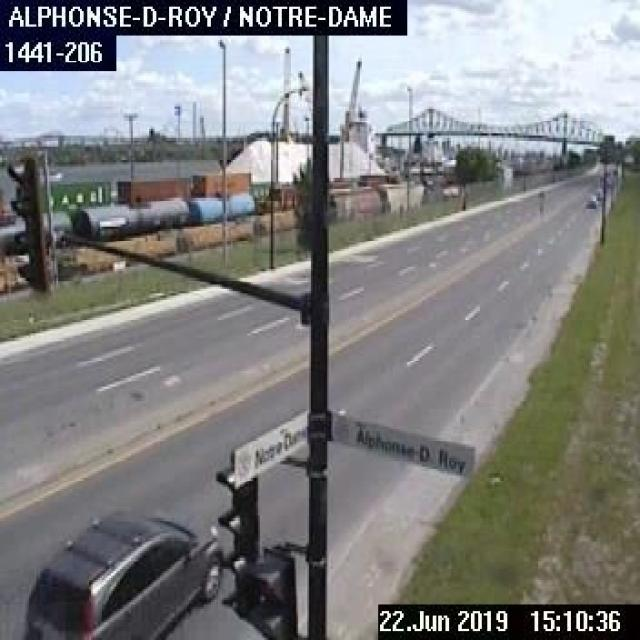vehicle: (22, 509, 225, 638), (584, 191, 597, 209)
